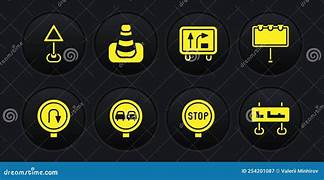back: (36, 99, 71, 133)
